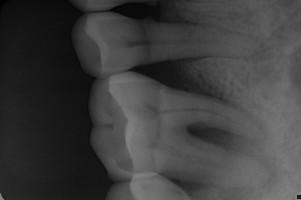Dental Caries: (167, 59, 285, 200)
